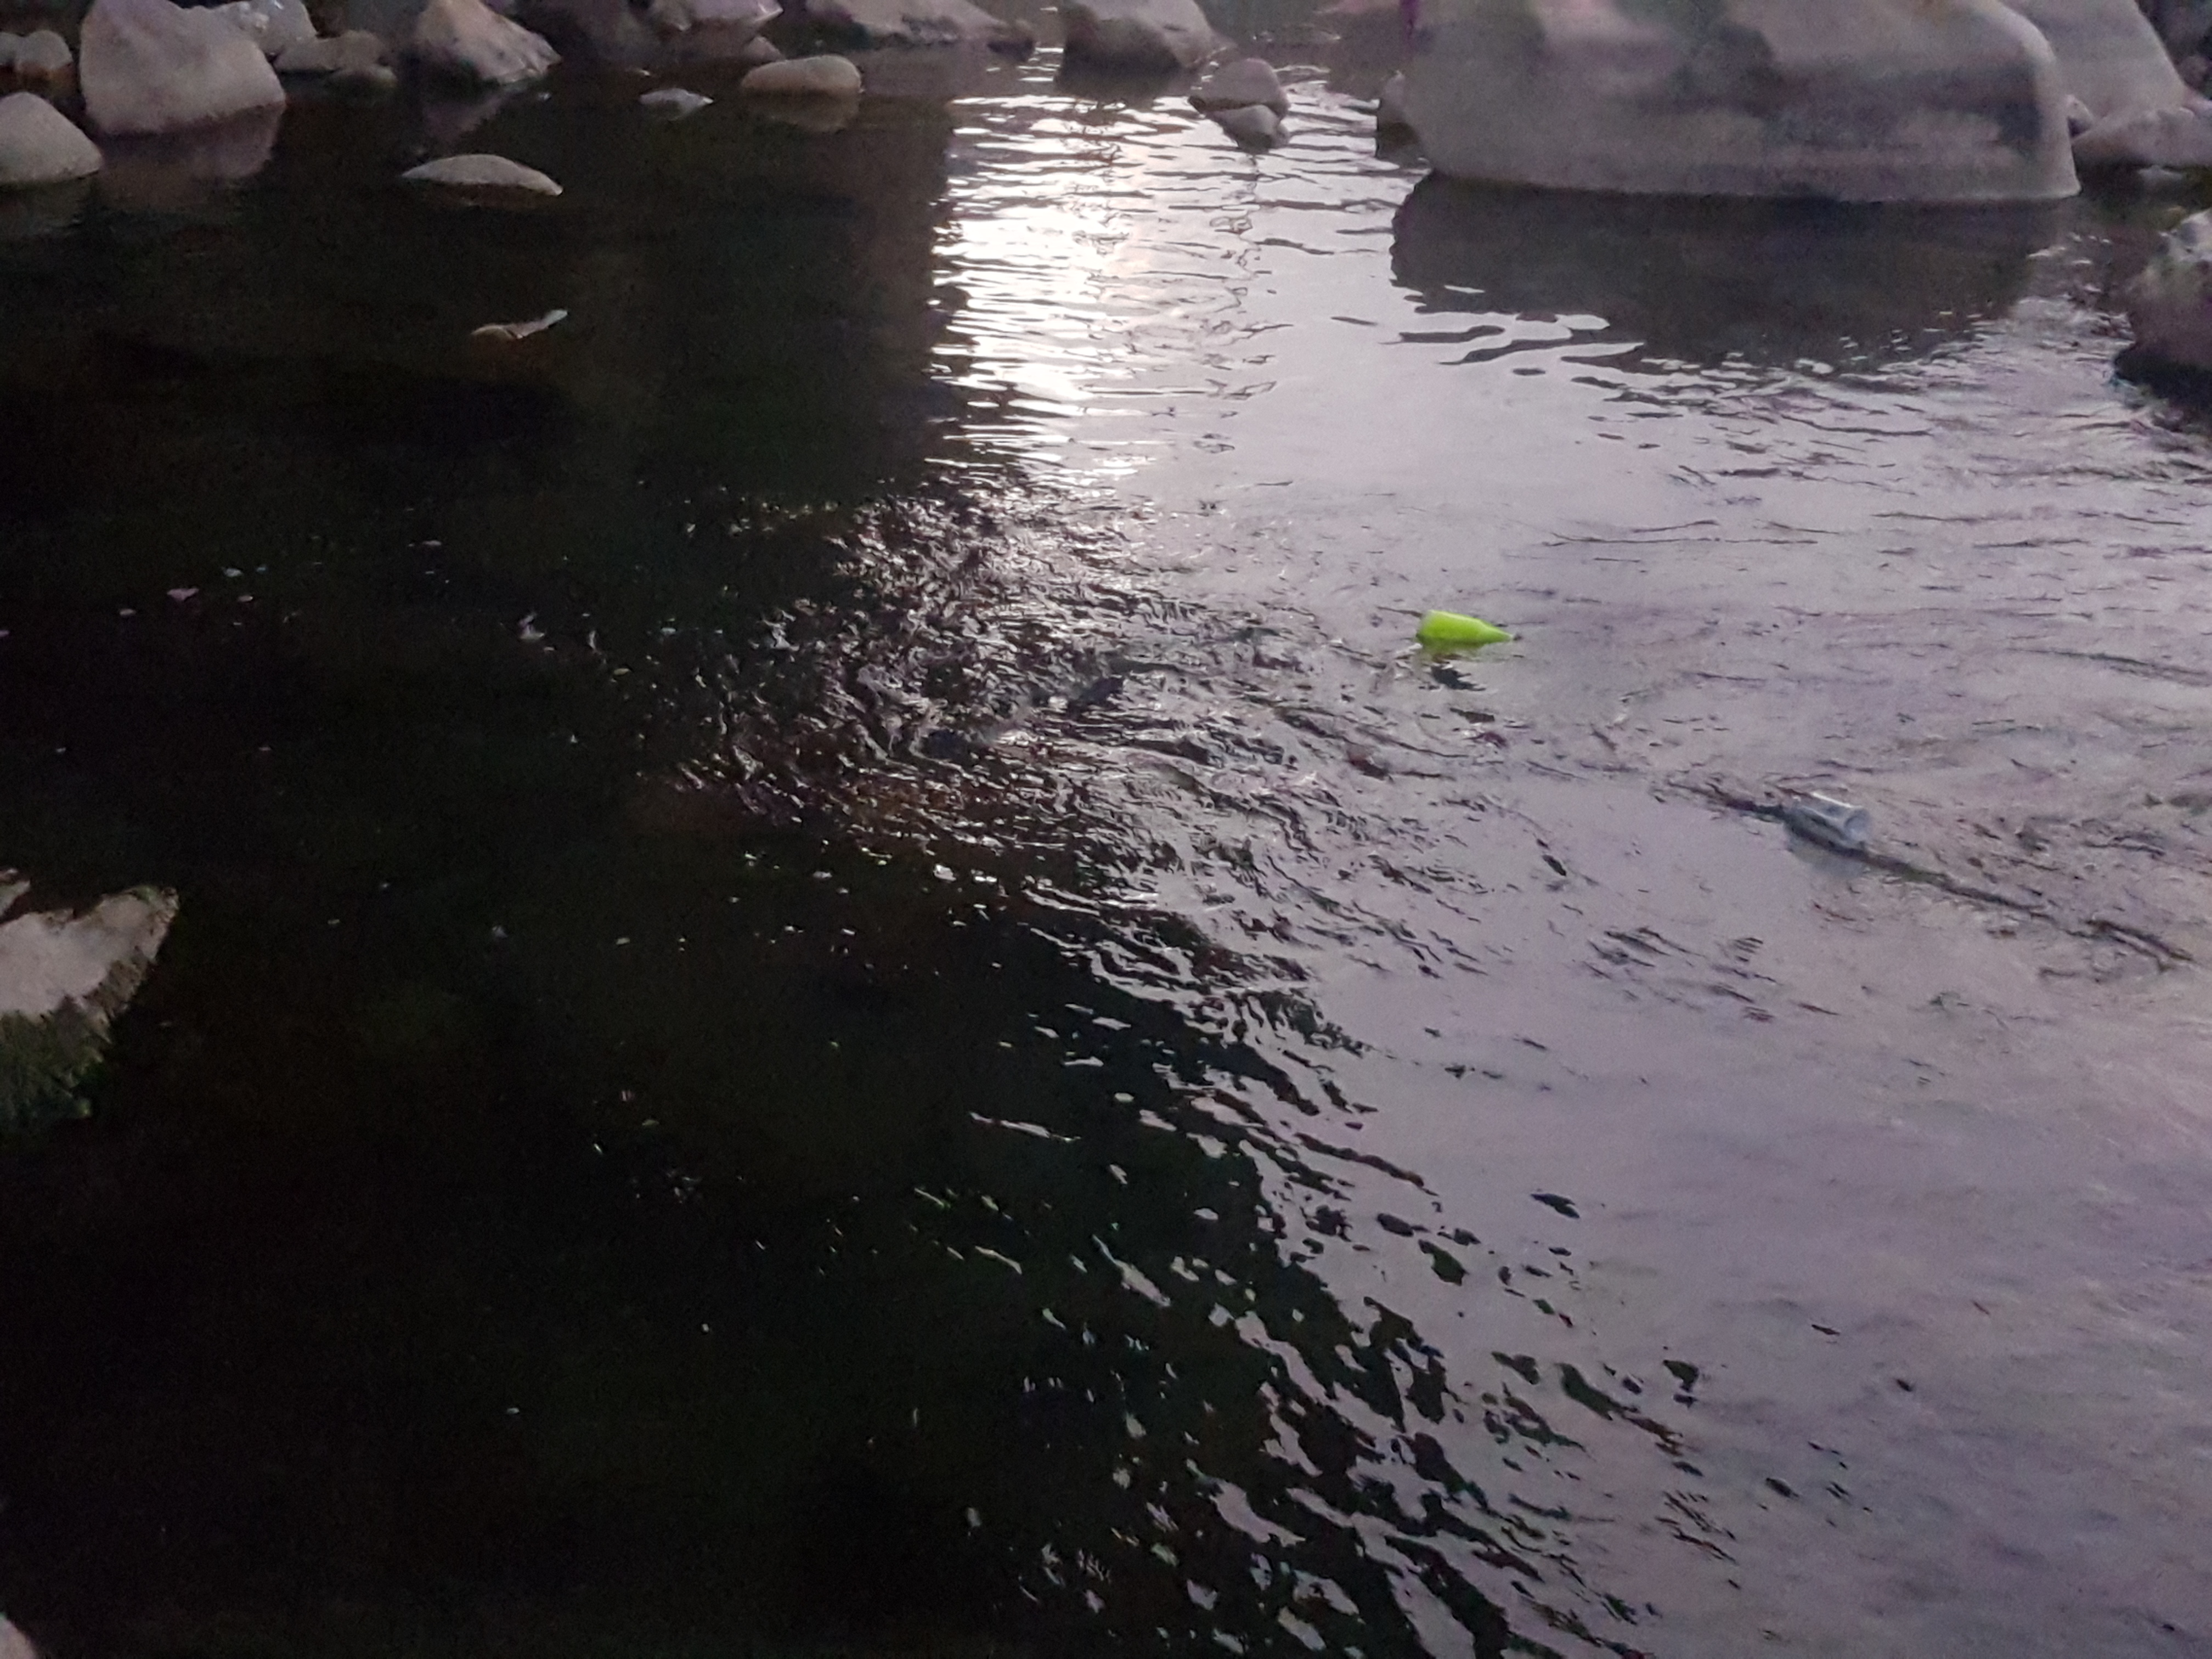Plastic Bottle: (1789, 789, 1872, 838), (1418, 606, 1514, 647)
